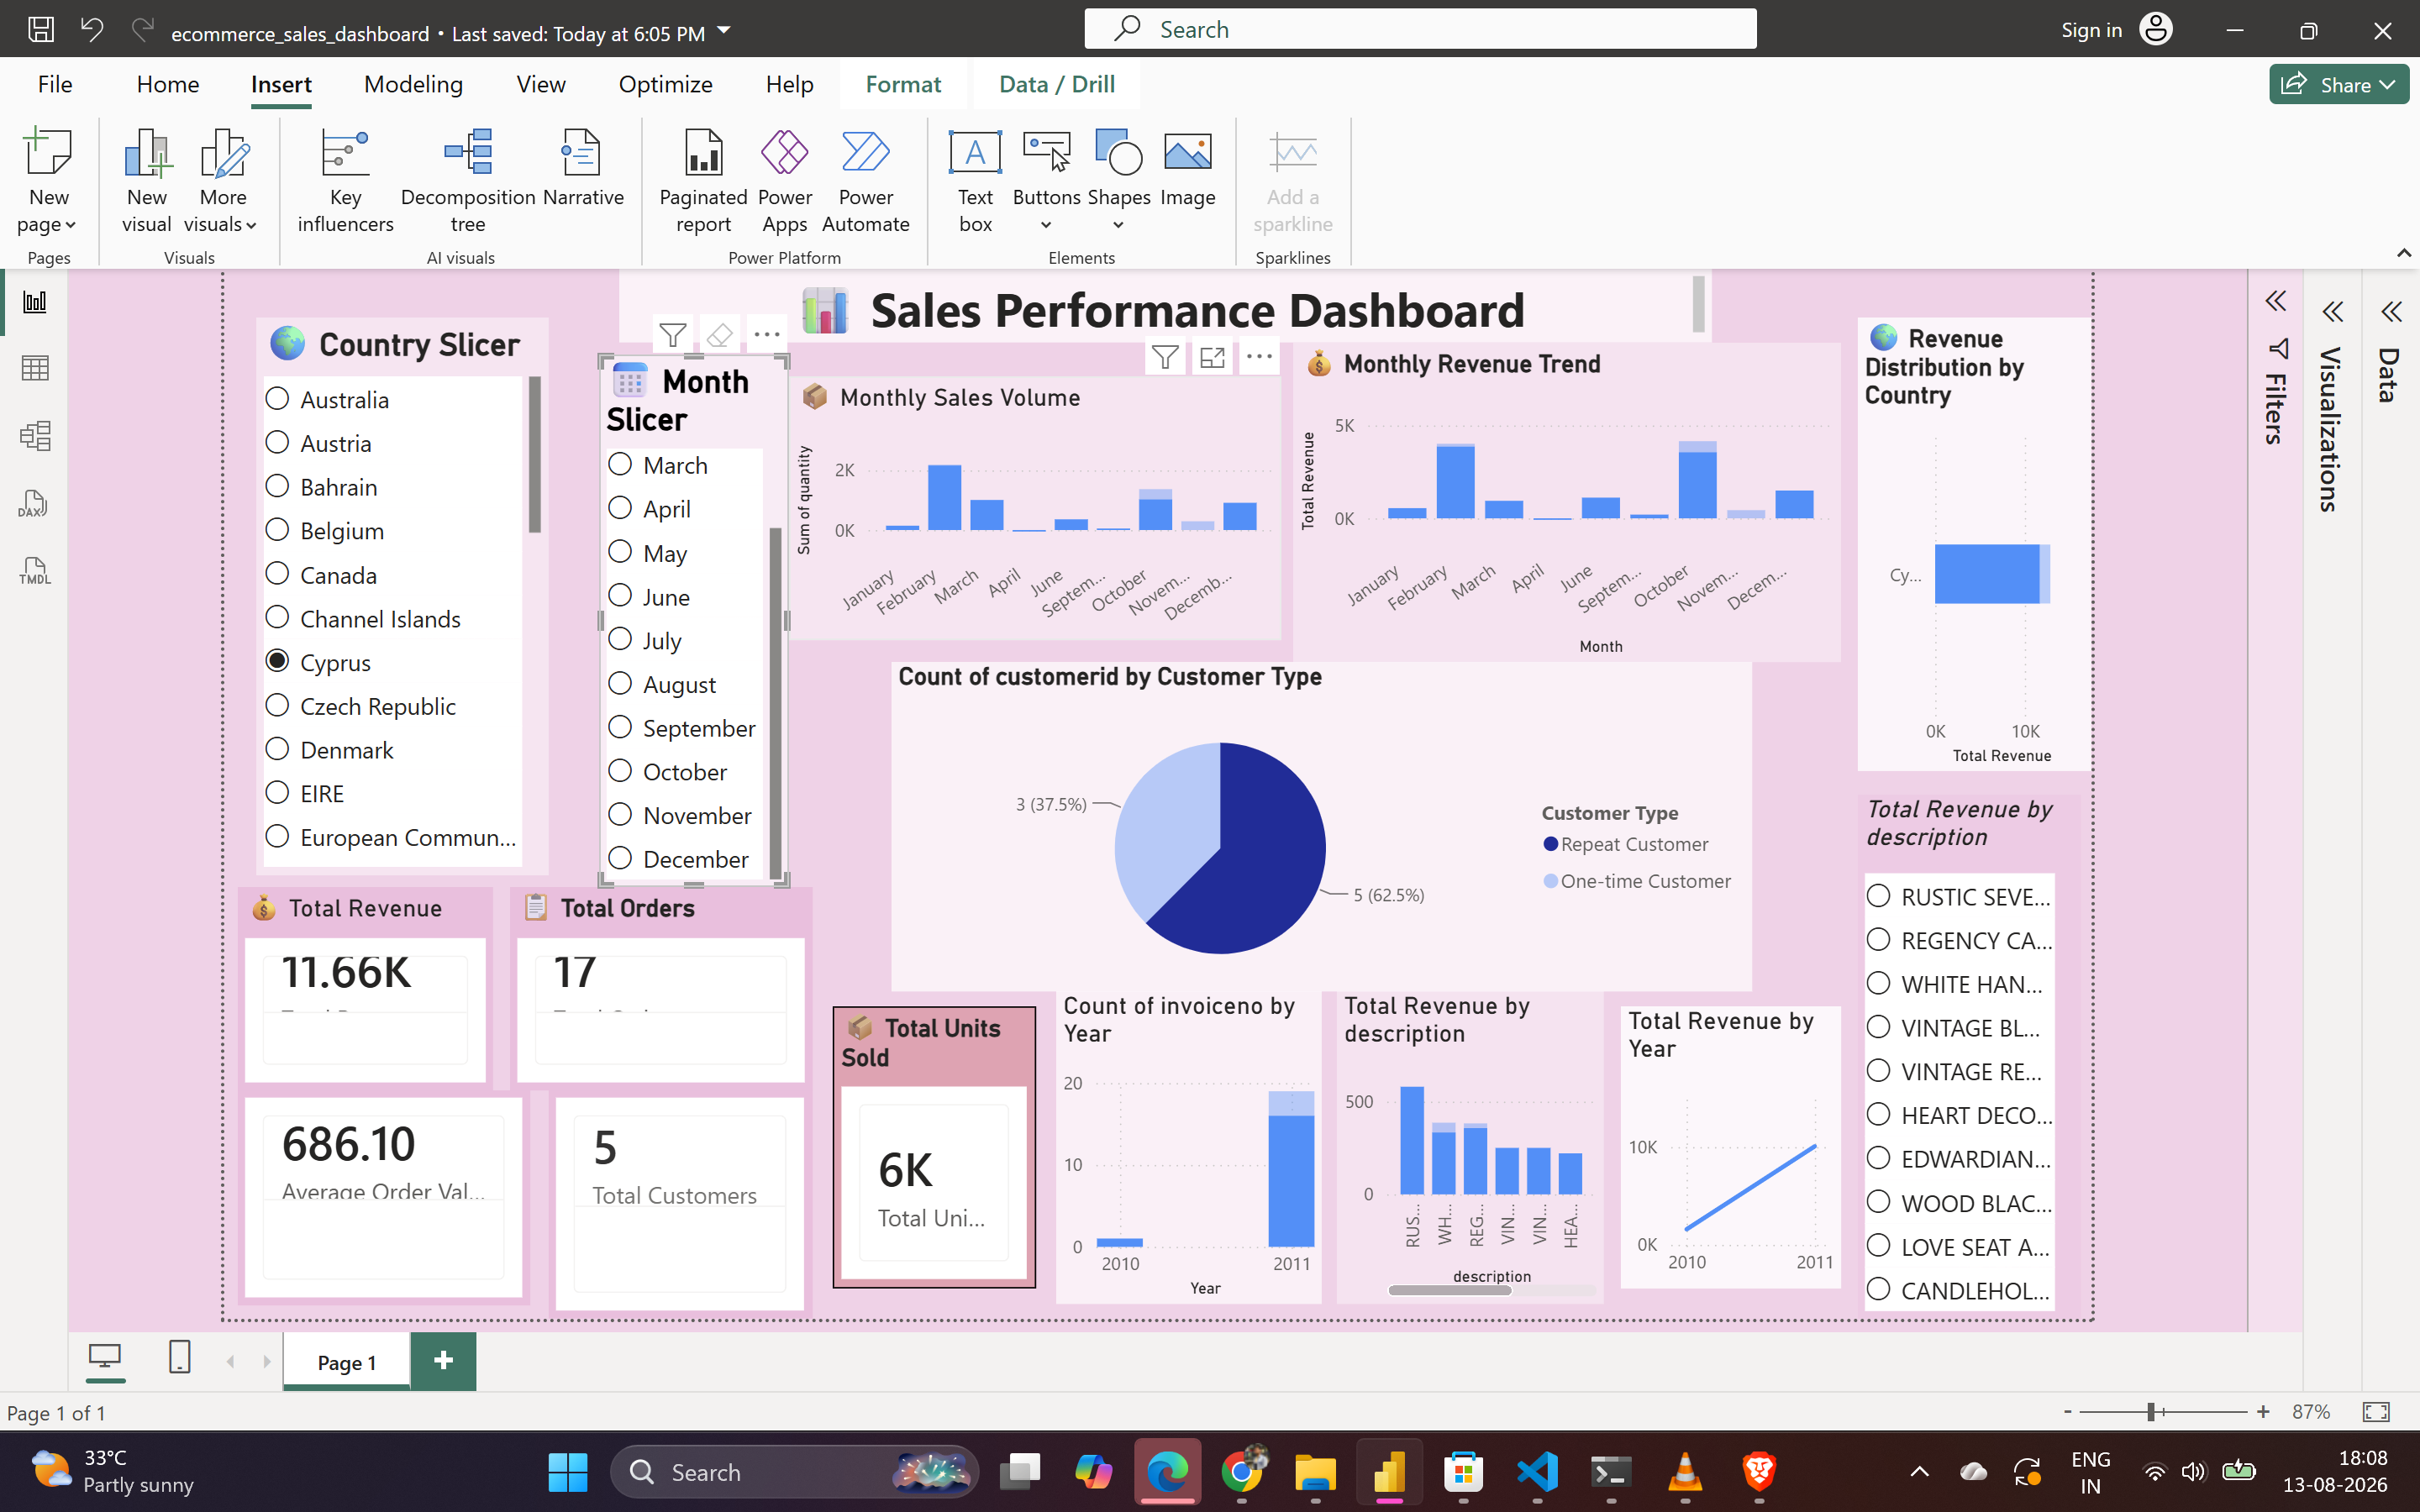

What the dashboard file says about the page in this screenshot:
{"tool":"powerbi","page":{"name":"Page 1","canvas":[1280,720],"ordinal":0},"visuals":[{"type":"cardVisual","title":"💰 Total Revenue","fields":{"Data":["public online_retail.Total Revenue"]},"box":[9.2,423.9,175.1,139.4],"z":0},{"type":"cardVisual","title":"📋 Total Orders","fields":{"Data":["public online_retail.Total Orders"]},"box":[195.8,423.9,207.4,139.4],"z":1000},{"type":"cardVisual","fields":{"Data":["public online_retail.Total Customers"]},"box":[222.3,563.3,180.9,156.7],"z":2000},{"type":"cardVisual","title":"📦 Total Units Sold","fields":{"Data":["public online_retail.Total Units Sold"]},"box":[417,505.7,139.4,193.5],"z":3000},{"type":"cardVisual","fields":{"Data":["public online_retail.Average Order Value"]},"box":[9.2,563.3,200.4,147.5],"z":4000},{"type":"listSlicer","fields":{"Values":["public online_retail.description"]},"box":[1119.7,360.6,153.2,359.4],"z":6000},{"type":"clusteredColumnChart","fields":{"Category":["public online_retail.description"],"Y":["public online_retail.Total Revenue"]},"box":[762.6,495.4,183.2,214.3],"z":7000},{"type":"pieChart","fields":{"Category":["public online_retail.Customer Type"],"Y":["Count(public online_retail.customerid)"]},"box":[457.3,269.6,589.8,225.8],"z":8000},{"type":"lineChart","fields":{"Y":["public online_retail.Total Revenue"],"Category":["public online_retail.invoicedate.Variation.Date Hierarchy.Year","public online_retail.invoicedate.Variation.Date Hierarchy.Quarter","public online_retail.invoicedate.Variation.Date Hierarchy.Month","public online_retail.invoicedate.Variation.Date Hierarchy.Day"]},"box":[957.3,505.7,150.9,193.5],"z":9000},{"type":"clusteredColumnChart","fields":{"Category":["public online_retail.invoicedate.Variation.Date Hierarchy.Year","public online_retail.invoicedate.Variation.Date Hierarchy.Quarter","public online_retail.invoicedate.Variation.Date Hierarchy.Month","public online_retail.invoicedate.Variation.Date Hierarchy.Day"],"Y":["Count(public online_retail.invoiceno)"]},"box":[570.2,495.4,182,214.3],"z":10000},{"type":"clusteredColumnChart","title":"📦 Monthly Sales Volume","fields":{"Category":["public online_retail.invoicedate.Variation.Date Hierarchy.Month"],"Y":["Sum(public online_retail.quantity)"]},"box":[387.1,73.7,337.5,180.9],"z":11000},{"type":"clusteredColumnChart","title":"💰 Monthly Revenue Trend","fields":{"Y":["public online_retail.Total Revenue"],"Category":["public online_retail.invoicedate.Variation.Date Hierarchy.Month"]},"box":[732.7,50.7,375.6,218.9],"z":12000},{"type":"clusteredBarChart","title":"🌍 Revenue Distribution by Country","fields":{"Category":["public online_retail.country"],"Y":["public online_retail.Total Revenue"]},"box":[1119.7,33.4,160.1,311],"z":13000},{"type":"textbox","box":[270.7,0,748.8,50.7],"z":14000},{"type":"listSlicer","title":"🌍 Country Slicer ","fields":{"Values":["public online_retail.country"]},"box":[21.9,33.4,200.4,382.5],"z":15000},{"type":"listSlicer","title":"📅 Month Slicer ","fields":{"Values":["public online_retail.invoicedate.Variation.Date Hierarchy.Month"]},"box":[256.9,58.8,130.2,365.2],"z":16000}]}

Visuals, with their boxes on the page's 1280x720 design canvas (x1, y1, x2, y2). These are canvas units, not pixel positions in the 2420x1512 screenshot, which may show the page scaled, cropped or inside an application window:
"💰 Total Revenue" cardVisual: 9,424,184,563
"📋 Total Orders" cardVisual: 196,424,403,563
cardVisual - public online_retail.Total Customers: 222,563,403,720
"📦 Total Units Sold" cardVisual: 417,506,556,699
cardVisual - public online_retail.Average Order Value: 9,563,210,711
listSlicer - public online_retail.description: 1120,361,1273,720
clusteredColumnChart - public online_retail.description x public online_retail.Total Revenue: 763,495,946,710
pieChart - public online_retail.Customer Type x Count(public online_retail.customerid): 457,270,1047,495
lineChart - public online_retail.Total Revenue x public online_retail.invoicedate.Variation.Date Hierarchy.Year: 957,506,1108,699
clusteredColumnChart - public online_retail.invoicedate.Variation.Date Hierarchy.Year x public online_retail.invoicedate.Variation.Date Hierarchy.Quarter: 570,495,752,710
"📦 Monthly Sales Volume" clusteredColumnChart: 387,74,725,255
"💰 Monthly Revenue Trend" clusteredColumnChart: 733,51,1108,270
"🌍 Revenue Distribution by Country" clusteredBarChart: 1120,33,1280,344
textbox: 271,0,1020,51
"🌍 Country Slicer " listSlicer: 22,33,222,416
"📅 Month Slicer " listSlicer: 257,59,387,424
